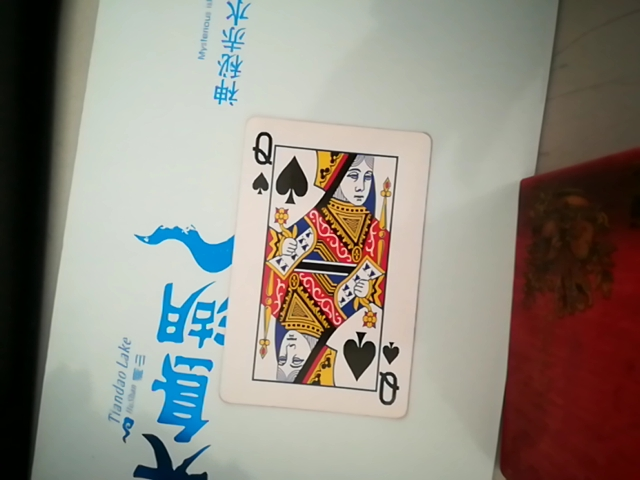ht q: (229, 124, 425, 428)
